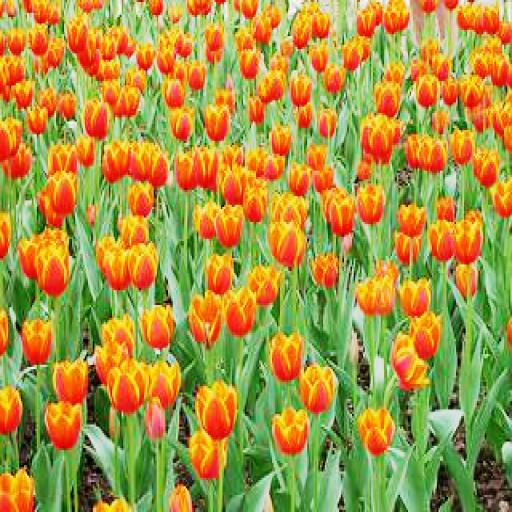tulip: (387, 333, 426, 397), (197, 382, 238, 439), (270, 406, 308, 456), (269, 328, 304, 382), (37, 241, 72, 294), (357, 408, 397, 454), (186, 292, 220, 346), (46, 401, 84, 448), (138, 303, 174, 352), (358, 277, 397, 322), (22, 316, 56, 365), (107, 367, 144, 412), (270, 218, 306, 264), (301, 362, 334, 412), (410, 308, 442, 358), (50, 361, 88, 403), (224, 286, 256, 335), (146, 360, 180, 406), (214, 200, 245, 248), (250, 262, 282, 308), (400, 273, 434, 316), (104, 245, 136, 290), (453, 220, 485, 262), (50, 168, 78, 216), (128, 241, 157, 286), (357, 181, 387, 224), (171, 149, 202, 188), (205, 250, 232, 294), (125, 181, 157, 218), (308, 247, 338, 286), (147, 145, 173, 190), (104, 136, 128, 184), (429, 220, 456, 262), (330, 194, 355, 235), (194, 198, 219, 237), (221, 164, 246, 203), (395, 204, 427, 234), (205, 104, 229, 138), (66, 17, 86, 51), (163, 74, 184, 106), (170, 106, 192, 136), (205, 21, 224, 49)
